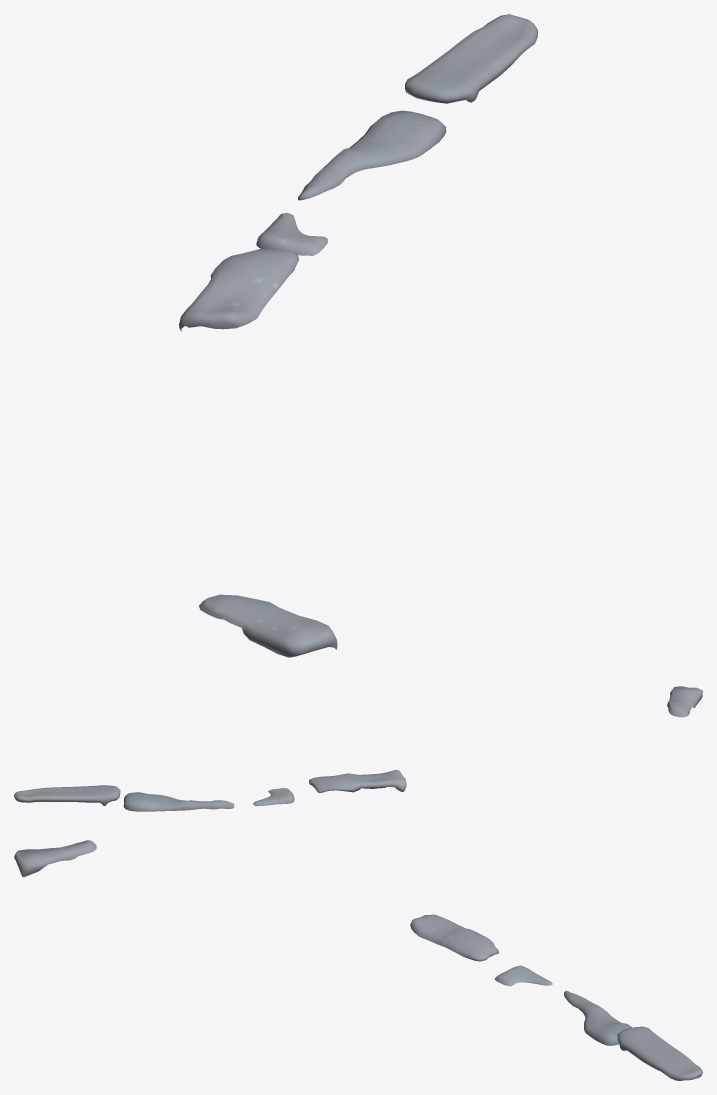
File: pref_sm_beach_winter_snow08_lv3.fbx
The picture shows the model from 3 angles, top to bottom: view 1: azimuth 30°, elevation 25°; view 2: azimuth 150°, elevation 25°; view 3: azimuth 270°, elevation 25°; orthographic projection. The views are drawn at different scales.
Parts seen in each view (by area): view 1: pref_sm_beach_winter_snow08_lv3; view 2: pref_sm_beach_winter_snow08_lv3; view 3: pref_sm_beach_winter_snow08_lv3.
Boxes of the visible parts, left/top/right/bottom form: pref_sm_beach_winter_snow08_lv3: left=179, top=14, right=537, bottom=657; pref_sm_beach_winter_snow08_lv3: left=14, top=686, right=702, bottom=811; pref_sm_beach_winter_snow08_lv3: left=14, top=840, right=702, bottom=1080.
Size of the model in its own units: 13.35 by 0.6043 by 16.04.
